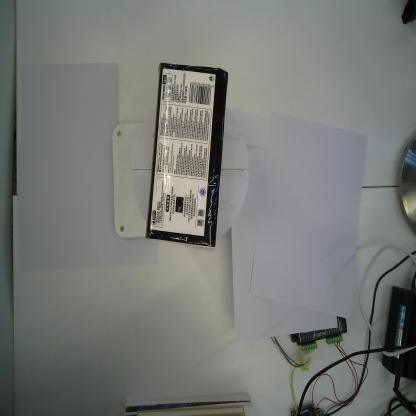Tissue: (144, 61, 230, 254)
